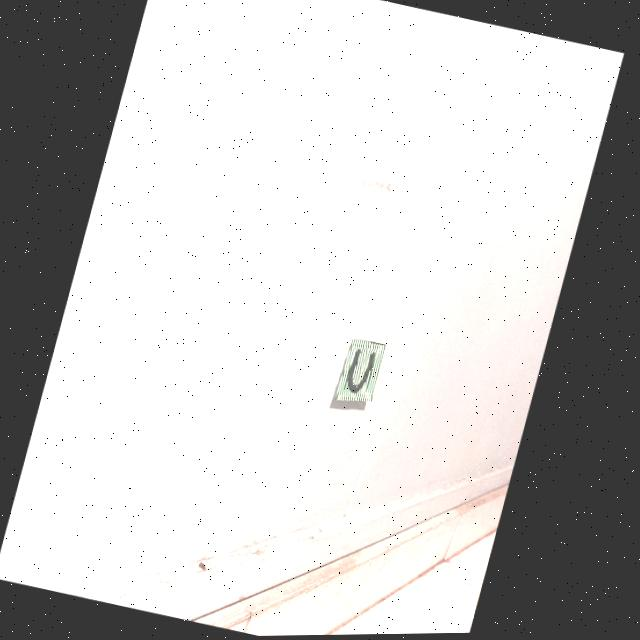U: (350, 350, 378, 394)
